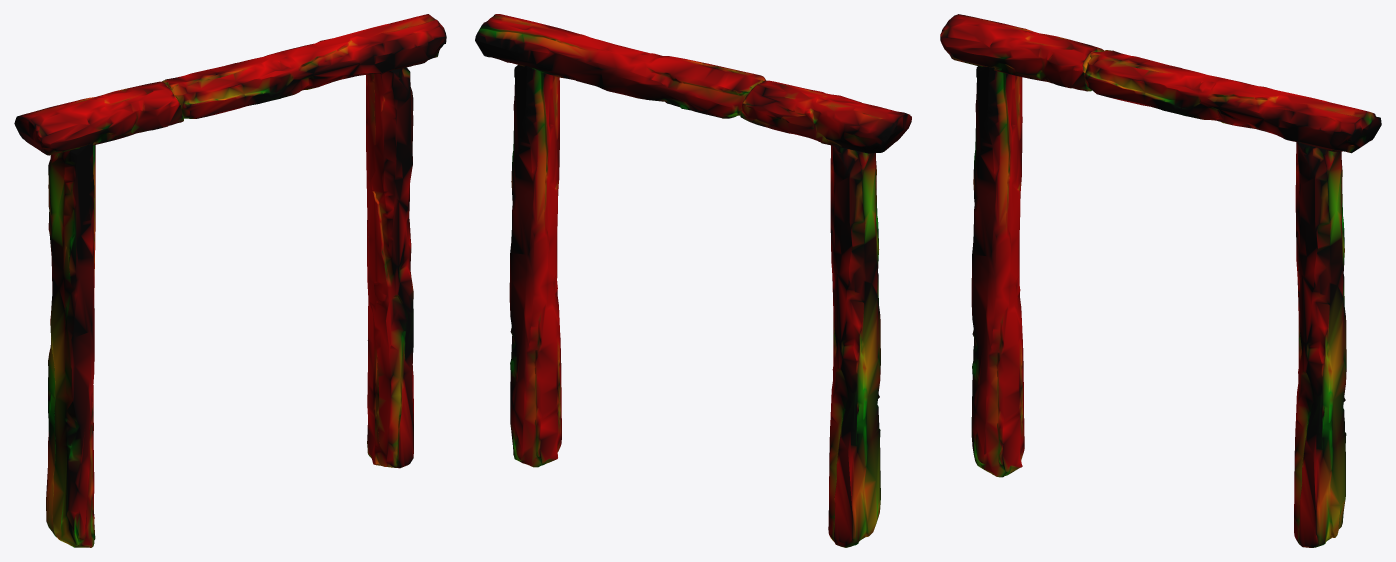
Rendered from SM_Stone_FenceFoundation.fbx.
3 renders of one model, left to right at view 1: azimuth 30°, elevation 25°; view 2: azimuth 150°, elevation 25°; view 3: azimuth 330°, elevation 25°, orthographic.
Parts seen in each view (by area): view 1: SM_Stone_FenceFoundation_LOD0; view 2: SM_Stone_FenceFoundation_LOD0; view 3: SM_Stone_FenceFoundation_LOD0.
Boxes of the visible parts, bbox=[...] form: SM_Stone_FenceFoundation_LOD0: bbox=[14, 14, 446, 547]; SM_Stone_FenceFoundation_LOD0: bbox=[475, 14, 911, 547]; SM_Stone_FenceFoundation_LOD0: bbox=[940, 14, 1381, 547].
Size of the model in its own units: 305 by 38.34 by 307.
